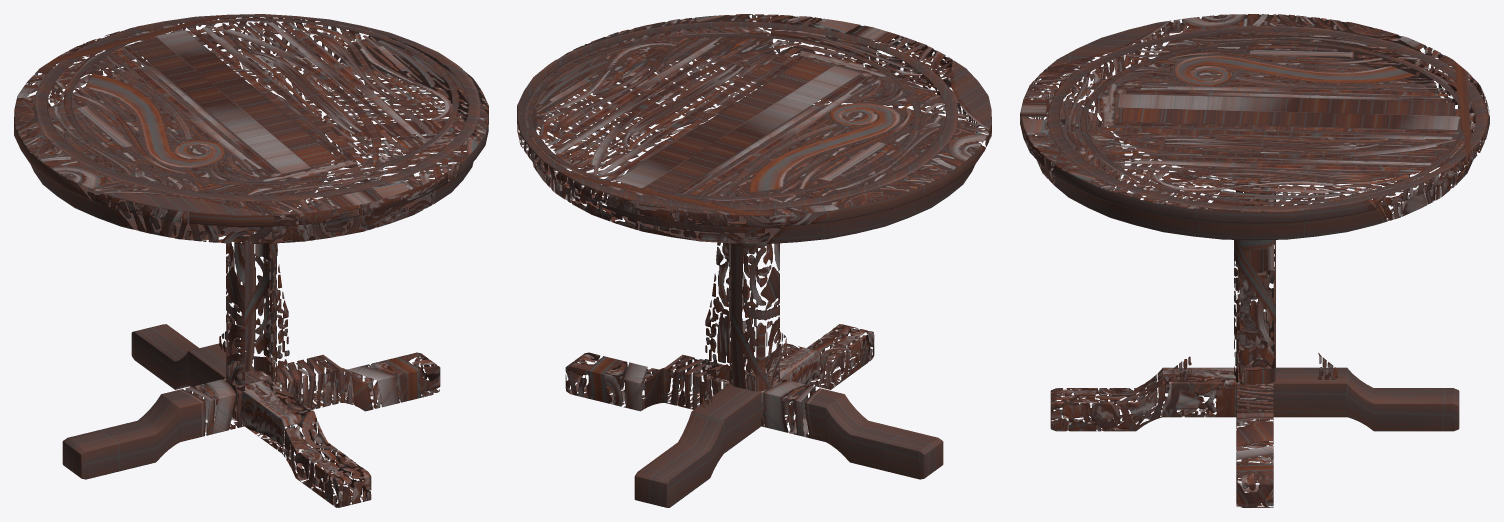
3 renders of one model, left to right at view 1: azimuth 30°, elevation 25°; view 2: azimuth 150°, elevation 25°; view 3: azimuth 270°, elevation 25°, orthographic.
Parts seen in each view (by area): view 1: Cylinder002; view 2: Cylinder002; view 3: Cylinder002.
Part boxes in pixels (x1=…): Cylinder002: x1=14, y1=14, x2=488, y2=507; Cylinder002: x1=517, y1=14, x2=991, y2=507; Cylinder002: x1=1020, y1=14, x2=1489, y2=507.
Bounding box in the file's own units: 1.62 × 1.19 × 1.62.
